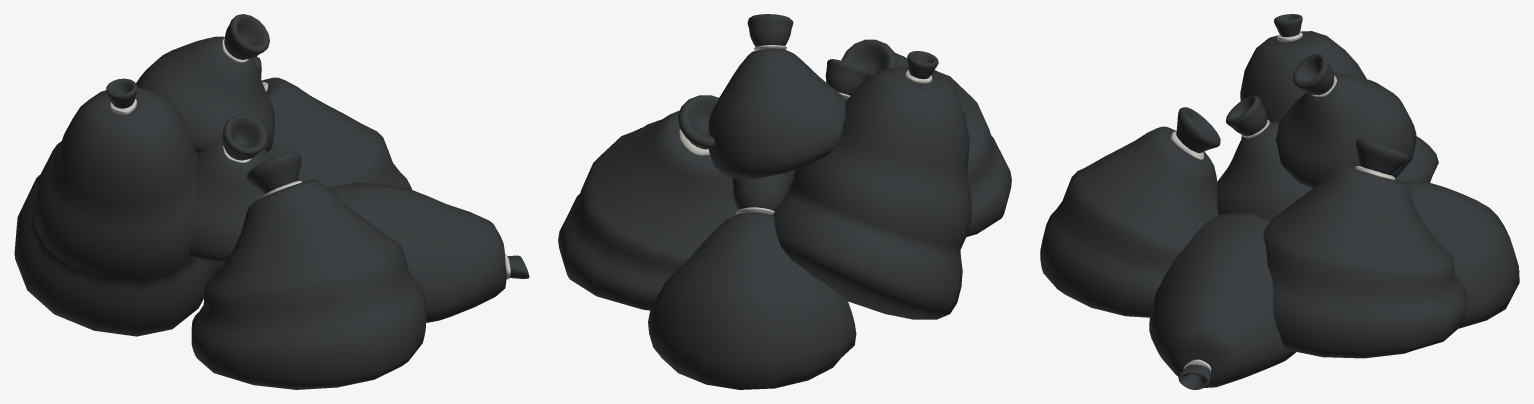
File: Montaña_Basura_01.fbx
3 views of the same model, side by side, from view 1: azimuth 30°, elevation 25°; view 2: azimuth 150°, elevation 25°; view 3: azimuth 270°, elevation 25° (orthographic). The views are drawn at different scales.
Visible parts, largest first — view 1: Montaña_Basura_01; view 2: Montaña_Basura_01; view 3: Montaña_Basura_01.
Part boxes in pixels (x1=…): Montaña_Basura_01: x1=14, y1=14, x2=529, y2=389; Montaña_Basura_01: x1=558, y1=14, x2=1011, y2=389; Montaña_Basura_01: x1=1040, y1=14, x2=1519, y2=389.
Bounding box in the file's own units: 331 × 219 × 361.
